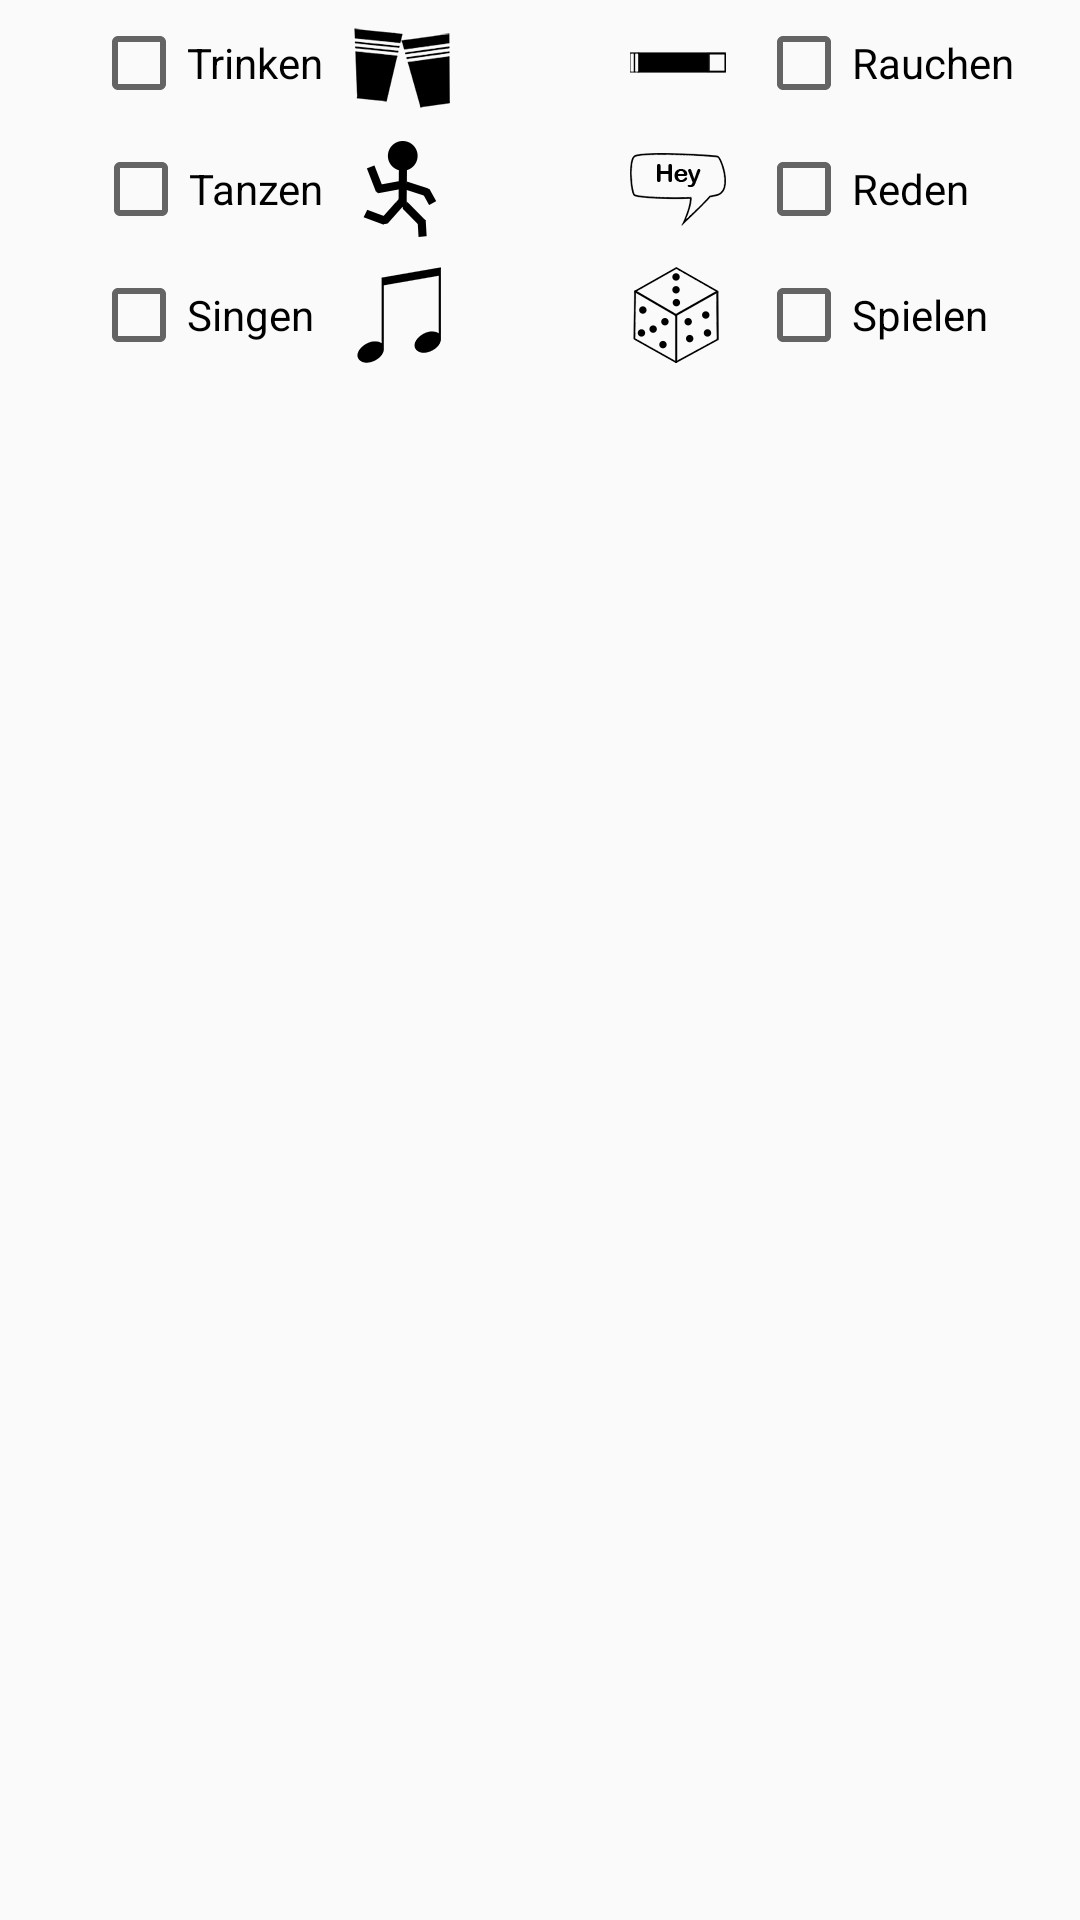

Screen size 1080 × 1920. Icon name, then its box in pixels as (x1, y1, x2, y2):
dance without padding: (363, 141, 436, 237)
drink without padding: (354, 28, 450, 108)
play without padding: (633, 267, 719, 363)
sing without padding: (357, 267, 441, 363)
smoking without padding: (630, 52, 726, 73)
talk without padding: (630, 153, 726, 226)
